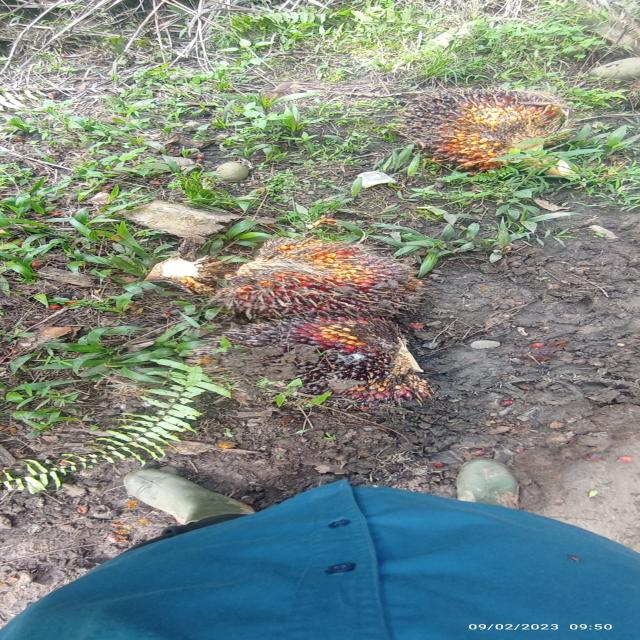fraksi 00: (175, 316, 465, 416), (368, 62, 578, 164)
fraksi 3: (200, 222, 429, 327)
